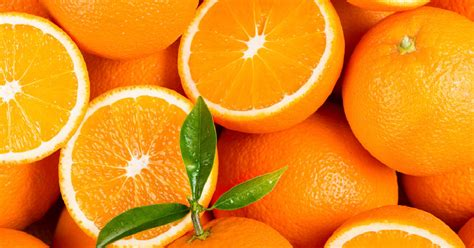orange: (338, 3, 474, 175)
